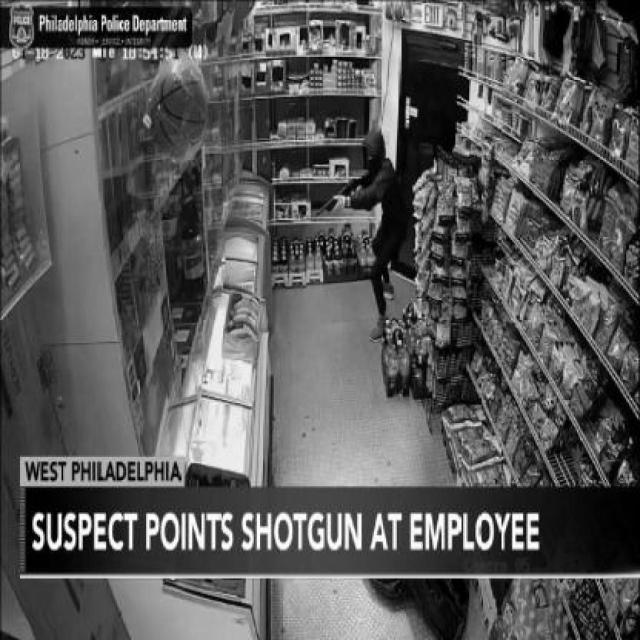weapon: (313, 175, 373, 219)
